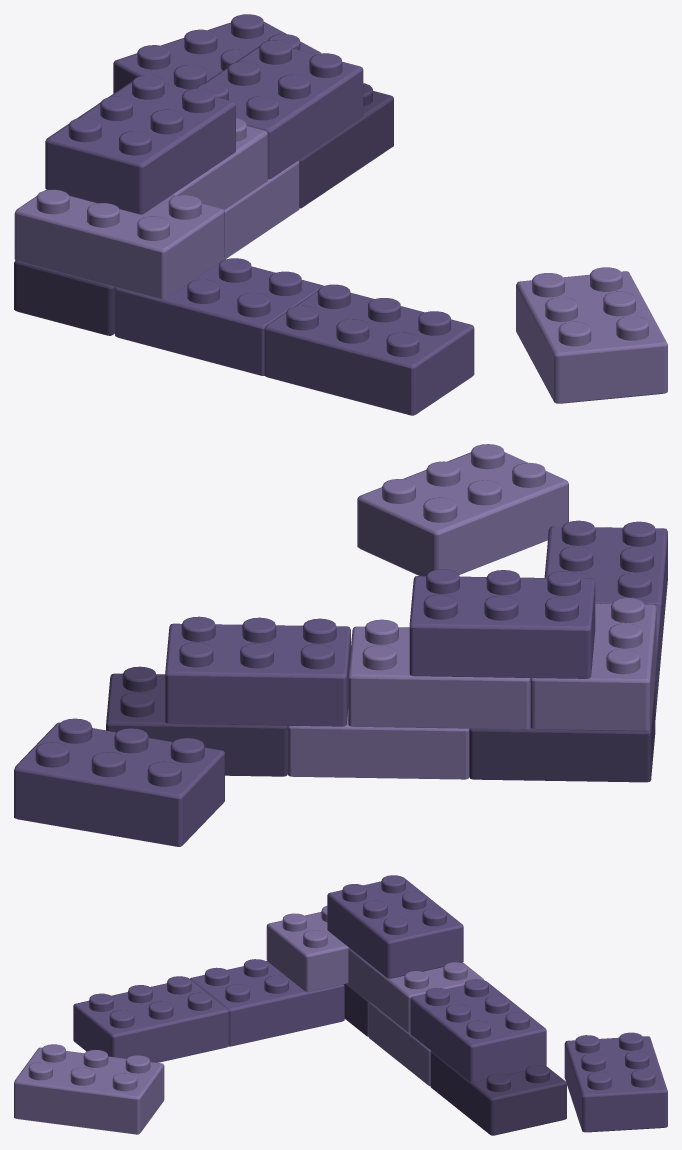
The model's file is Blox.glb.
The picture shows the model from 3 angles, top to bottom: view 1: azimuth 30°, elevation 25°; view 2: azimuth 150°, elevation 25°; view 3: azimuth 270°, elevation 25°; orthographic projection. The views are drawn at different scales.
Parts seen in each view (by area): view 1: Blox.001; view 2: Blox.001; view 3: Blox.001.
Boxes of the visible parts, box(x1,y1,x2,y2) form: Blox.001: box(14, 14, 667, 415); Blox.001: box(14, 444, 667, 846); Blox.001: box(14, 875, 667, 1135).
Size of the model in its own units: 5.3 by 1.81 by 8.91.
1 material, 1 textured.
